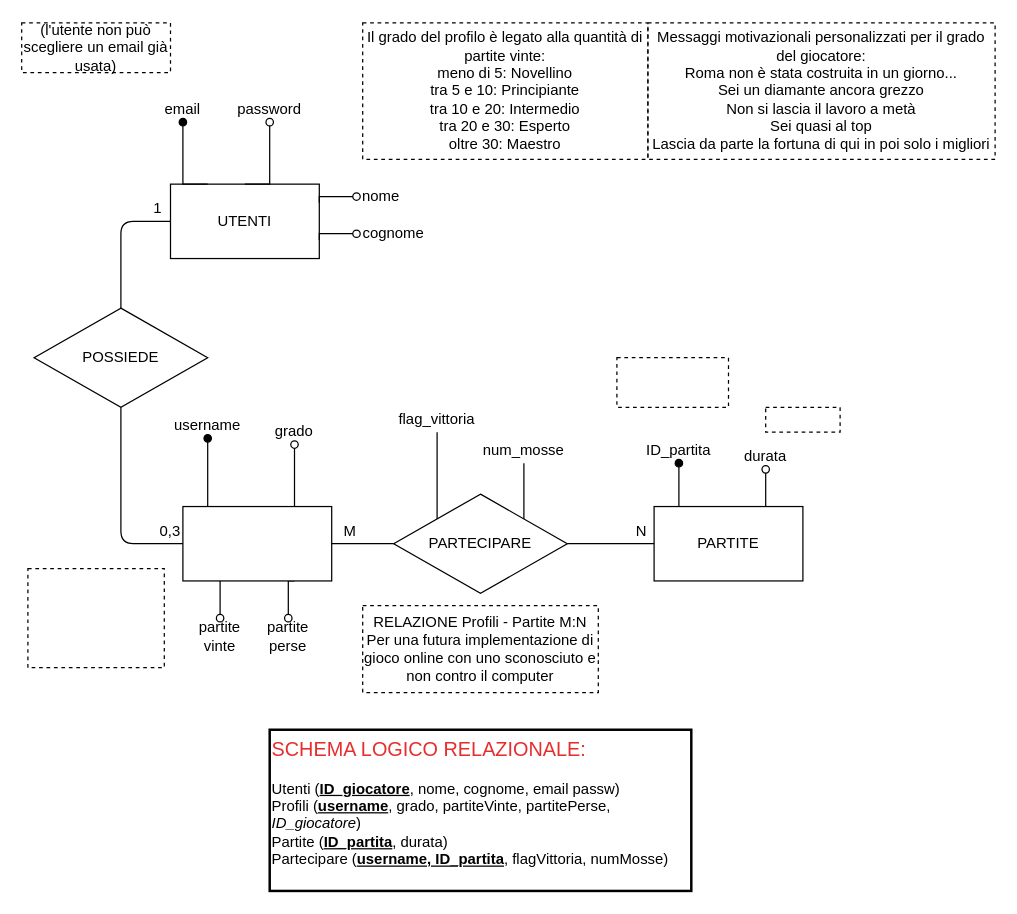
This 1017x914 diagram has some shape labels left out. The shapes that lost their labels are listed below. From the top down, each one's centre as x and y in pixels, then its label:
At (672,381): "(ID_paritta semplice contatore)".
At (802,419): "(in minuti)".
At (257,543): "PROFILI".
At (95,617): "Alla creazione dell'utente si hanno 0 profili, ma se ne possono creare fino a 3".
